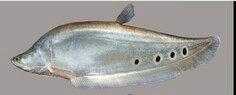Knifefish: (14, 2, 222, 89)
